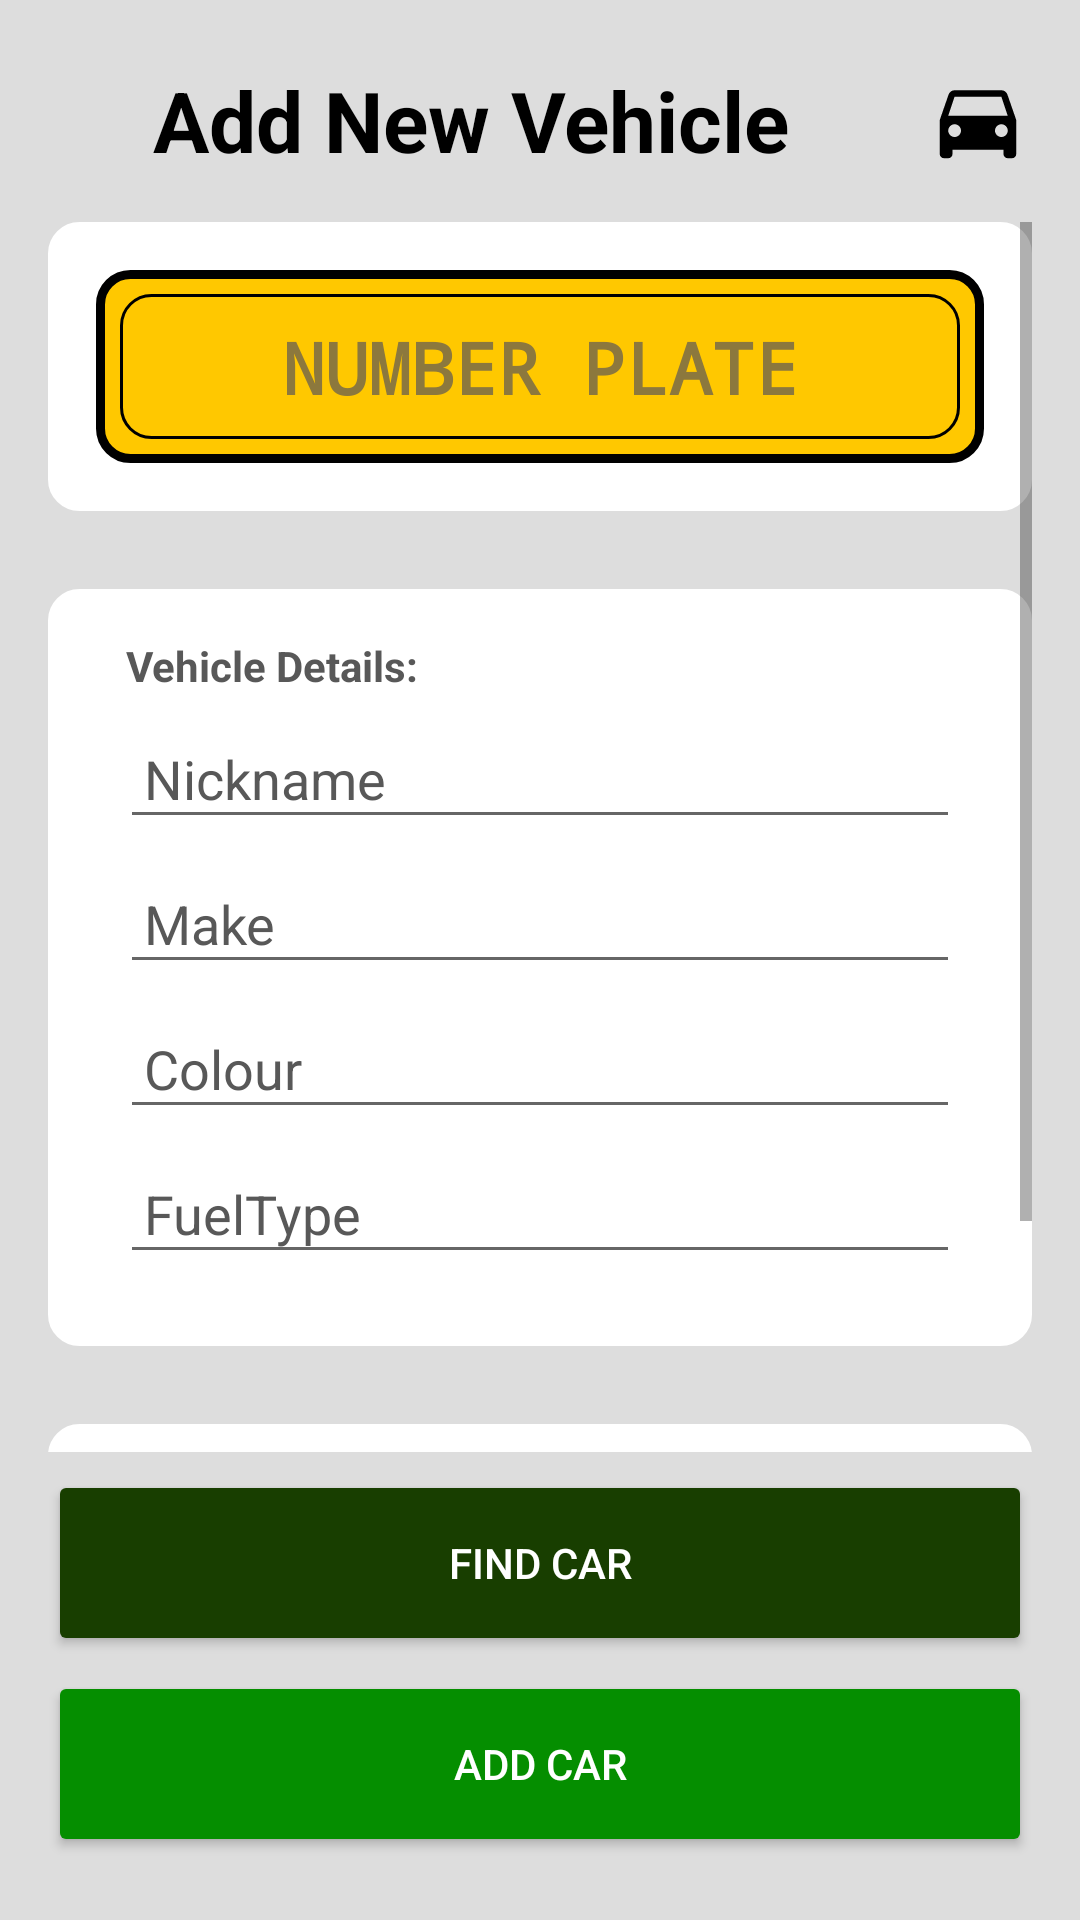

Named icons in this screenshot (1080 x 1920) and their centers, (x=x, y=y):
car: (x=978, y=124)
